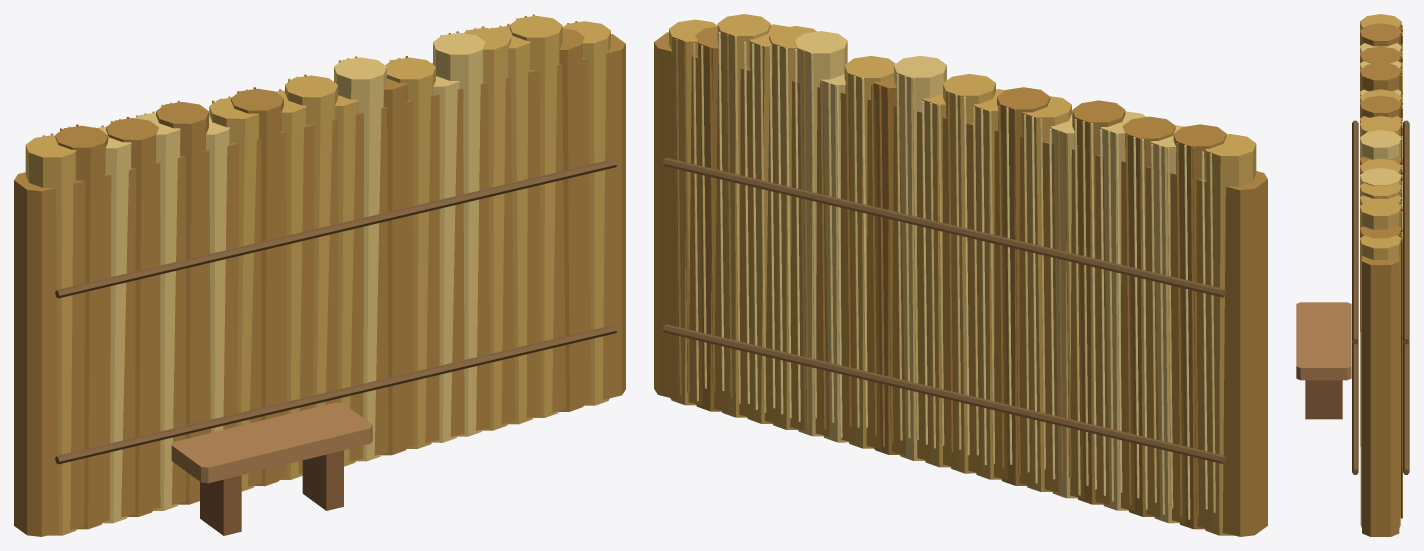
The model's file is straw_back.glb.
3 renders of one model, left to right at view 1: azimuth 30°, elevation 25°; view 2: azimuth 150°, elevation 25°; view 3: azimuth 270°, elevation 25°, orthographic. The views are drawn at different scales.
Visible parts, largest first — view 1: straw_back; view 2: straw_back; view 3: straw_back.
Part boxes in pixels (left/top/right/bottom): straw_back: left=14, top=14, right=625, bottom=536; straw_back: left=654, top=14, right=1267, bottom=536; straw_back: left=1296, top=14, right=1409, bottom=536.
Size of the model in its own units: 0.642 by 0.3972 by 0.1335.
